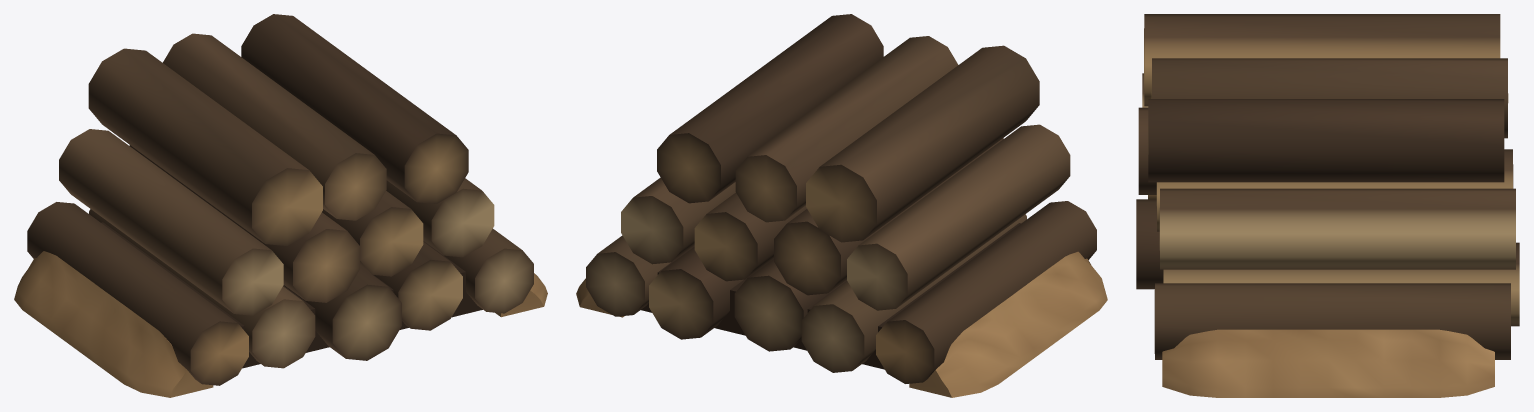
The model's file is Hut_Firewood.fbx.
3 views of the same model, side by side, from view 1: azimuth 30°, elevation 25°; view 2: azimuth 150°, elevation 25°; view 3: azimuth 270°, elevation 25° (orthographic). The views are drawn at different scales.
Visible parts, largest first — view 1: Hut_Firewood; view 2: Hut_Firewood; view 3: Hut_Firewood.
Part boxes in pixels (<box>): Hut_Firewood: <box>14,14,547,397</box>; Hut_Firewood: <box>576,14,1107,397</box>; Hut_Firewood: <box>1136,14,1519,397</box>.
Size of the model in its own units: 26.43 by 12.72 by 19.37.
